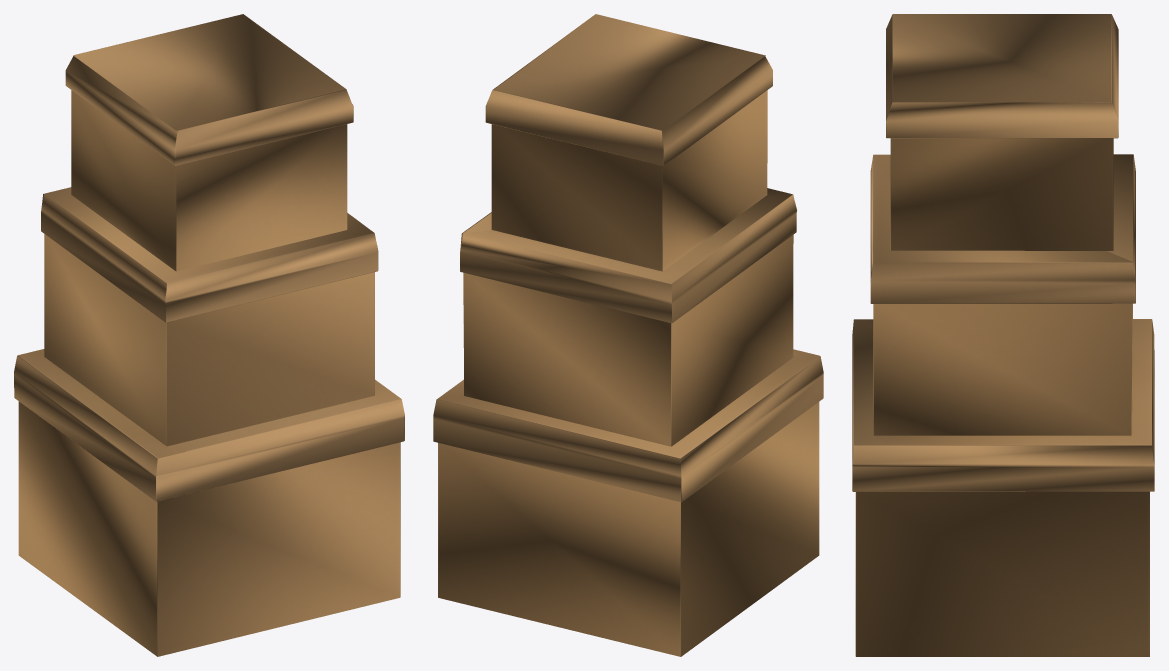
Rendered from storage_boxes.fbx.
3 views of the same model, side by side, from view 1: azimuth 30°, elevation 25°; view 2: azimuth 150°, elevation 25°; view 3: azimuth 270°, elevation 25° (orthographic). The views are drawn at different scales.
Parts seen in each view (by area): view 1: Mesh_0; view 2: Mesh_0; view 3: Mesh_0.
Boxes of the visible parts, x1,y1,x2,y2 form: Mesh_0: (14, 14, 404, 656); Mesh_0: (433, 14, 823, 656); Mesh_0: (852, 14, 1154, 656).
Size of the model in its own units: 49.07 by 95.07 by 48.63.
Materials: 1 (1 with a texture image).
